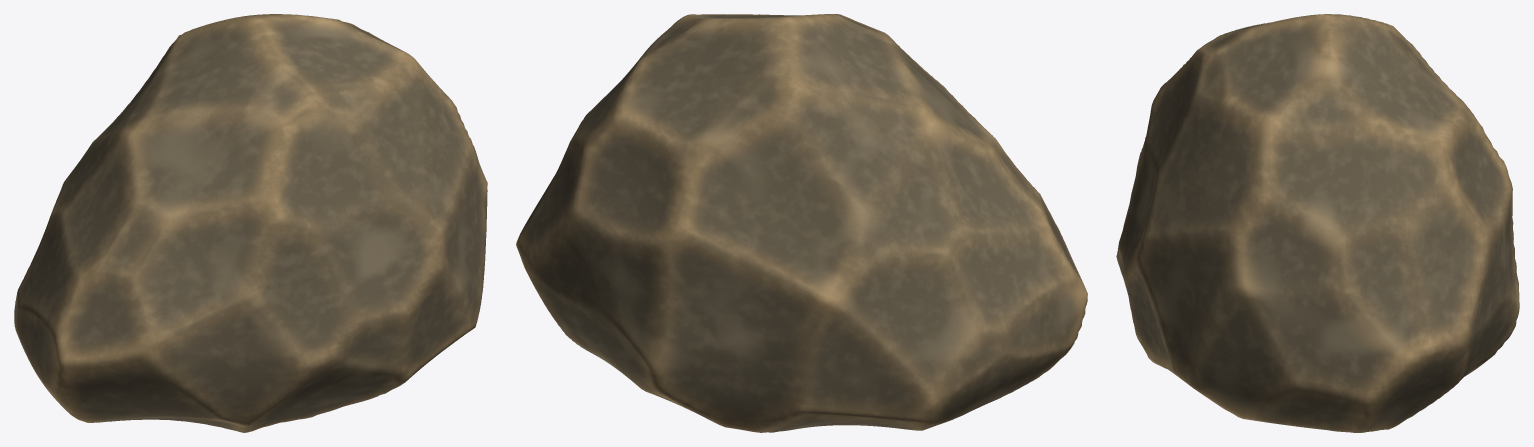
The model's file is round_rock_L.fbx.
3 views of the same model, side by side, from view 1: azimuth 30°, elevation 25°; view 2: azimuth 150°, elevation 25°; view 3: azimuth 270°, elevation 25° (orthographic). The views are drawn at different scales.
Parts seen in each view (by area): view 1: round_rock_L; view 2: round_rock_L; view 3: round_rock_L.
Part boxes in pixels (x1,y1,x2,y2): round_rock_L: [14, 14, 487, 432]; round_rock_L: [516, 14, 1087, 432]; round_rock_L: [1116, 14, 1519, 432].
Size of the model in its own units: 965 by 739 by 717.
